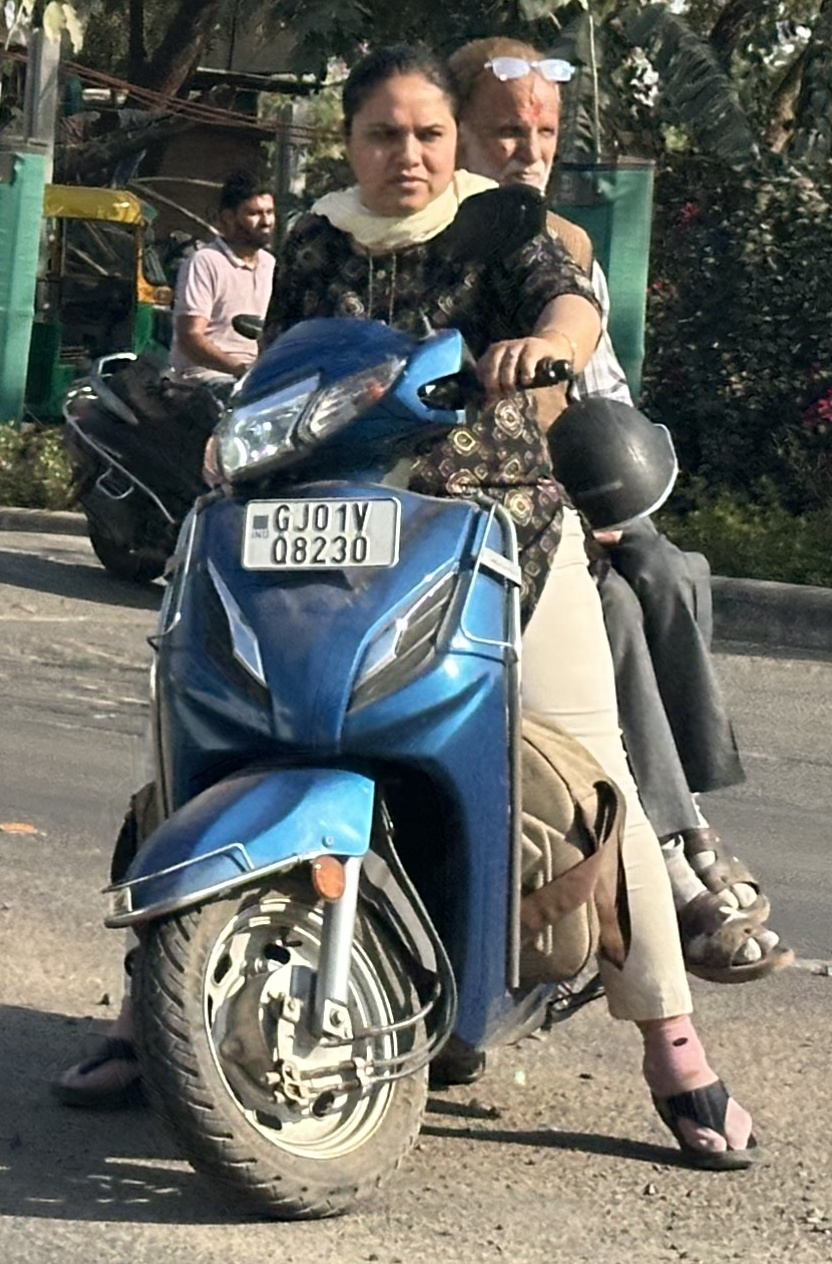BikeWithRider: (58, 24, 802, 1225), (52, 159, 303, 592)
NoHelmet: (325, 42, 471, 220), (443, 27, 578, 213), (209, 165, 288, 253)
